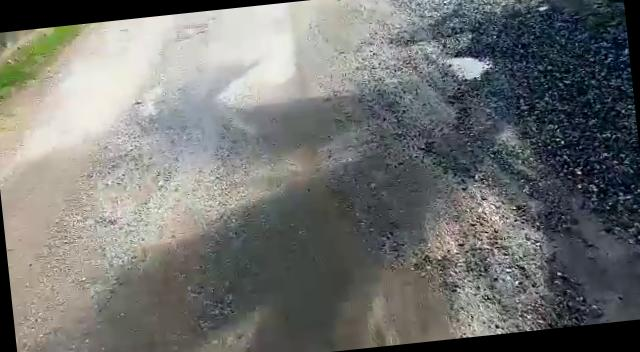pothole: (447, 46, 496, 84)
